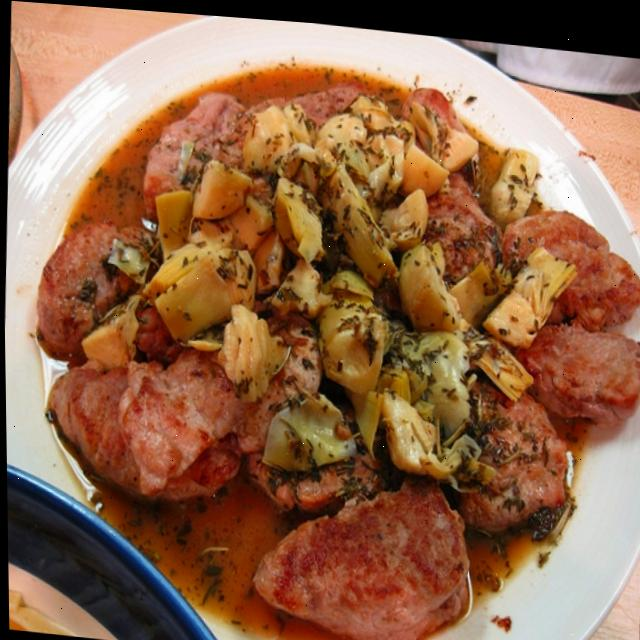猪肉菜式: (39, 27, 622, 640)
